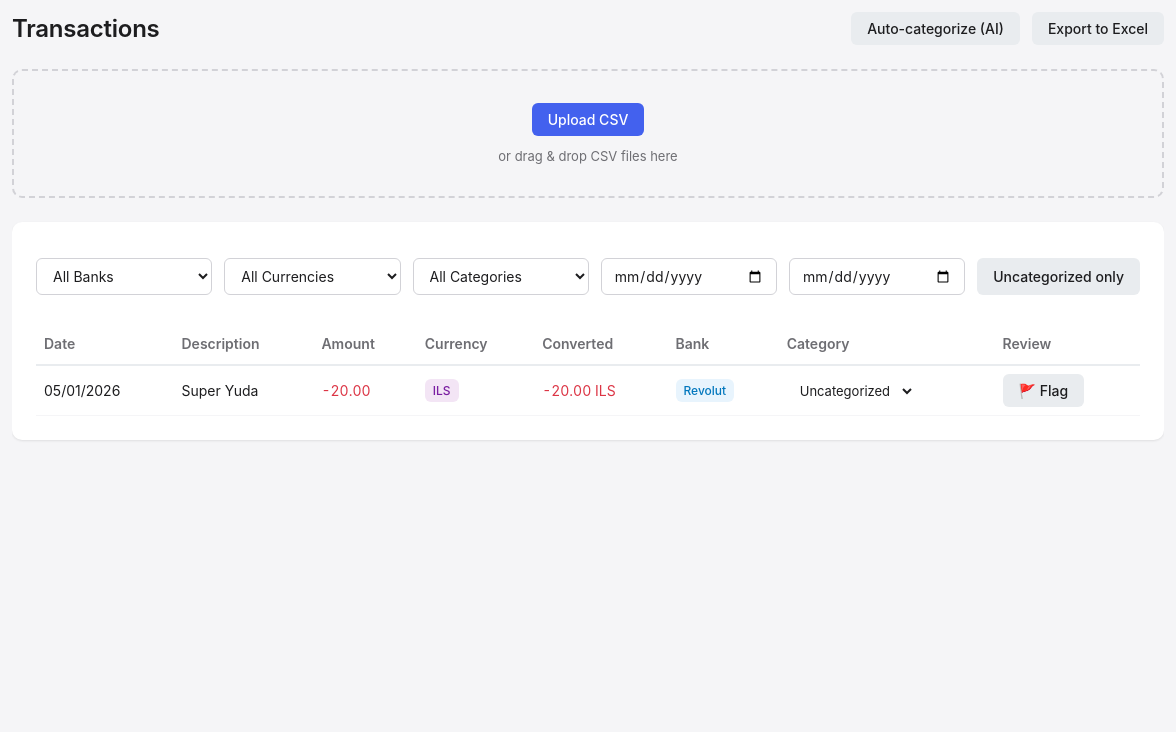
it: TransactionsPage › clicking the flag button reveals an inline editor with a category select
Click the button "🚩 Flag": (1043, 390) [1003,374,1084,407]
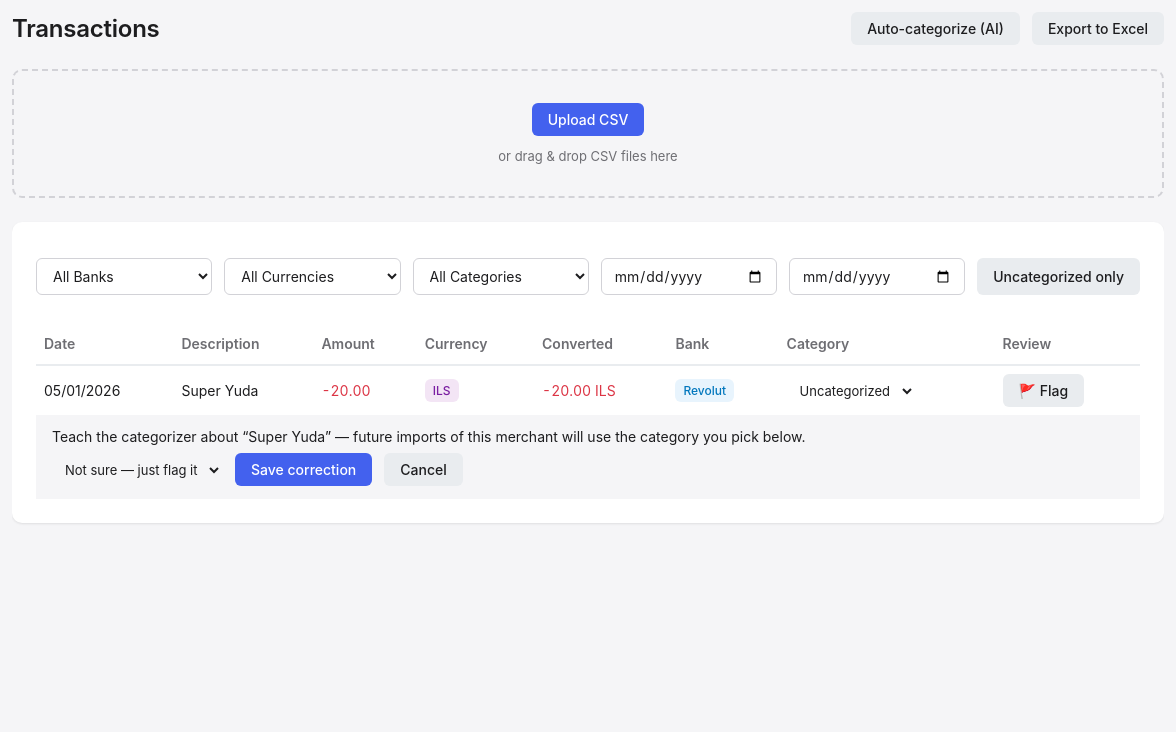
Expected: the text "Teach the categorizer" is shown, [52,428,248,445]
Expected: the button "Save correction" is shown, [235,453,372,486]
